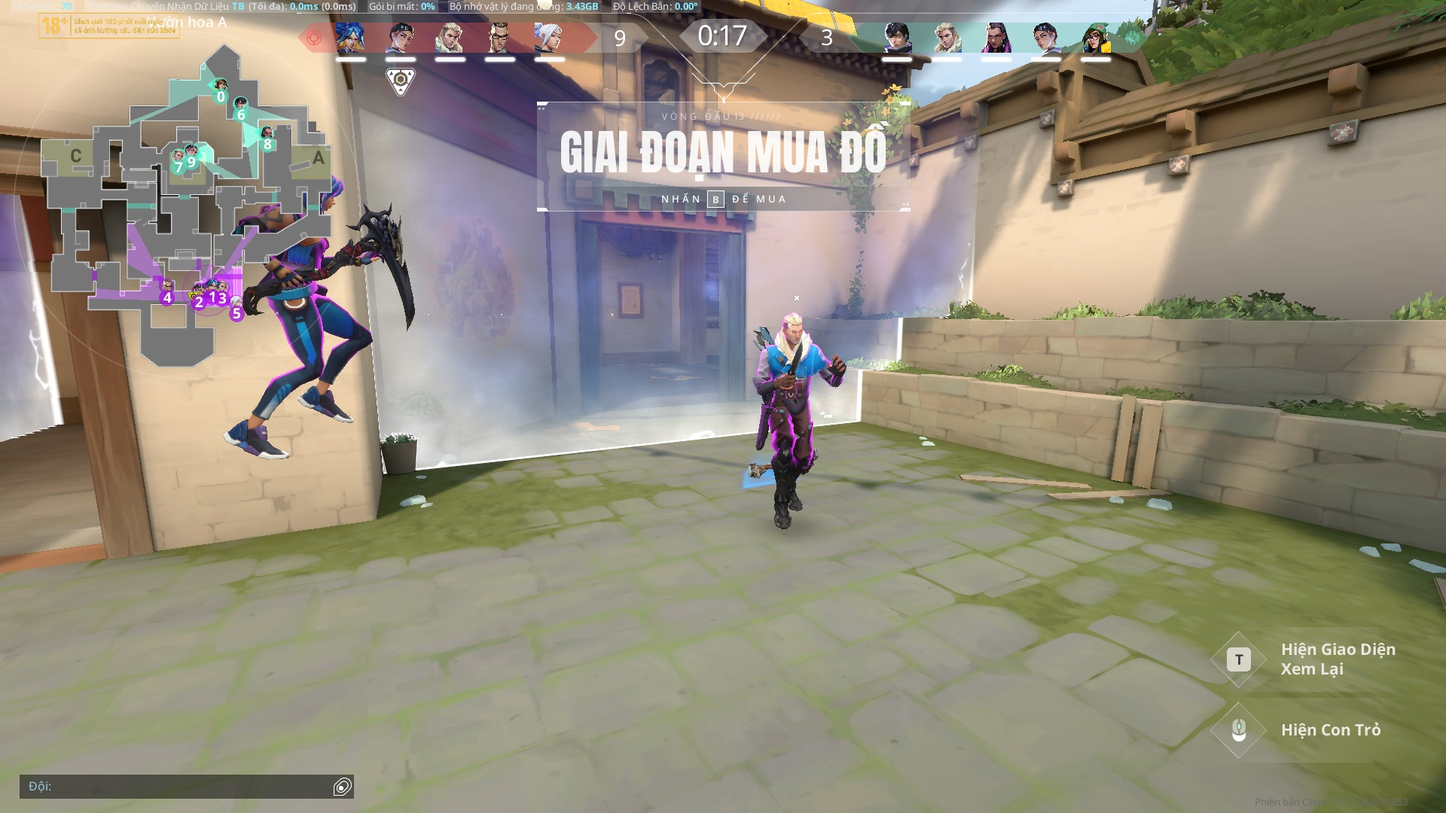body: (264, 213, 328, 279), (758, 336, 818, 391)
head: (285, 165, 345, 216), (779, 310, 805, 344)
